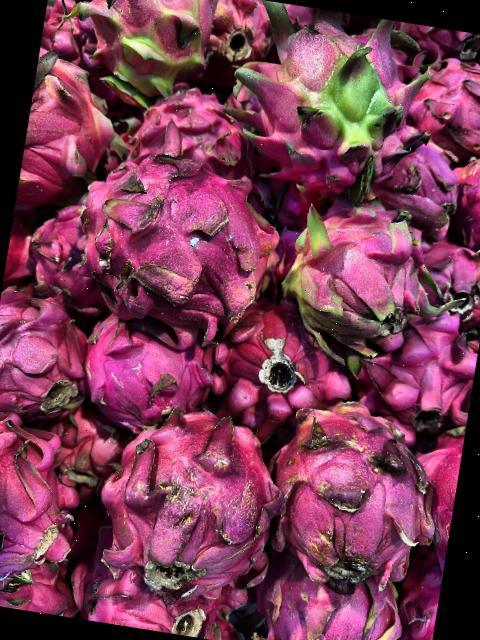buah-naga-belum-matang: (221, 0, 413, 197), (272, 178, 454, 361), (15, 40, 130, 222), (75, 0, 224, 90)
buah-naga-matang: (61, 146, 290, 340), (96, 392, 292, 614), (263, 388, 456, 594), (204, 298, 350, 432), (73, 306, 228, 427), (0, 412, 89, 598), (0, 275, 96, 432), (355, 314, 480, 429), (125, 82, 257, 182), (404, 47, 480, 155)
